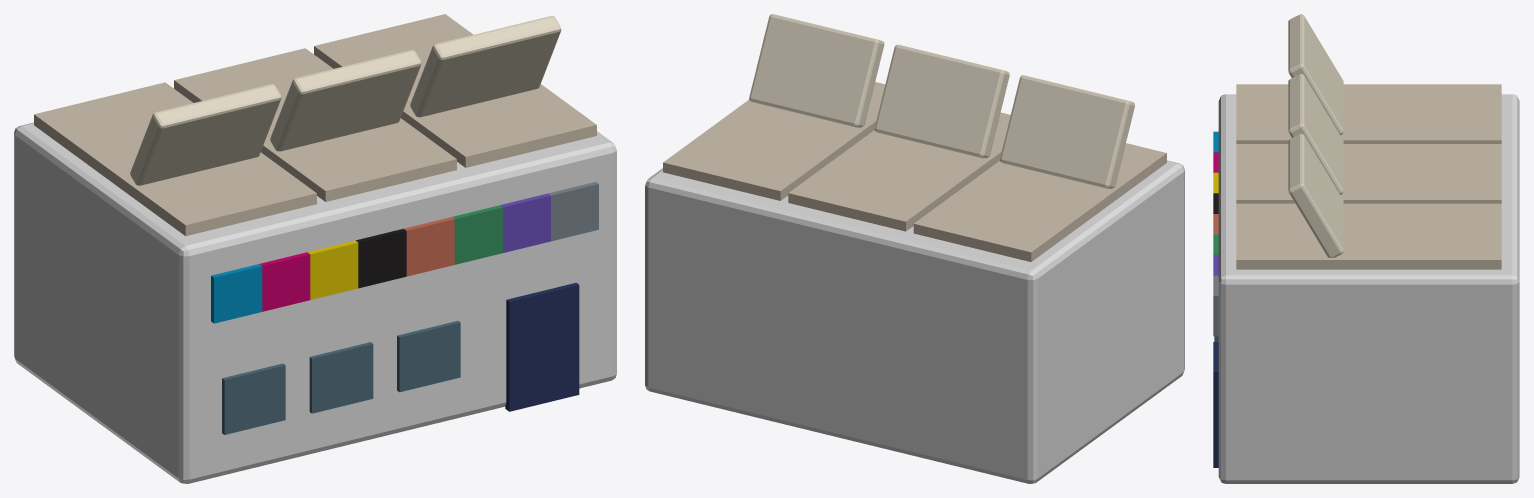
3 renders of one model, left to right at view 1: azimuth 30°, elevation 25°; view 2: azimuth 150°, elevation 25°; view 3: azimuth 270°, elevation 25°, orthographic. The views are drawn at different scales.
Visible parts, largest first — view 1: lm_05; view 2: lm_05; view 3: lm_05.
Part boxes in pixels (left/top/right/bottom): lm_05: left=14, top=14, right=616, bottom=483; lm_05: left=645, top=14, right=1184, bottom=483; lm_05: left=1213, top=14, right=1519, bottom=483.
Bounding box in the file's own units: 0.5 × 0.3672 × 0.346.
